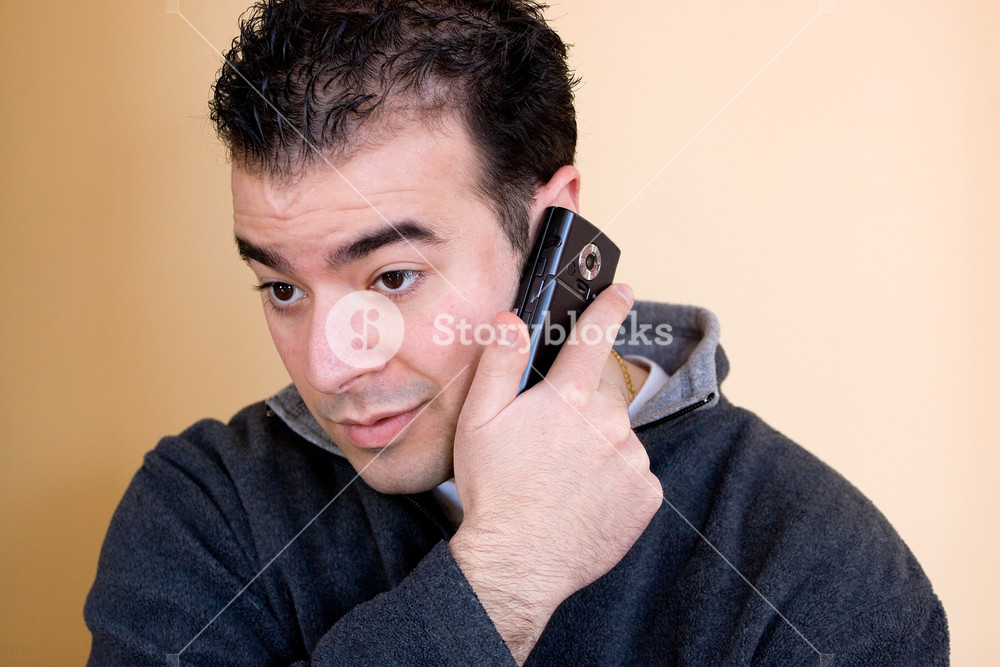phone: (516, 208, 623, 406)
talk: (236, 210, 665, 604)
